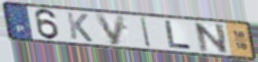6: (33, 8, 61, 41)
I: (140, 16, 153, 49)
K: (64, 11, 95, 44)
L: (163, 19, 194, 51)
N: (192, 22, 231, 55)
V: (92, 12, 127, 47)
